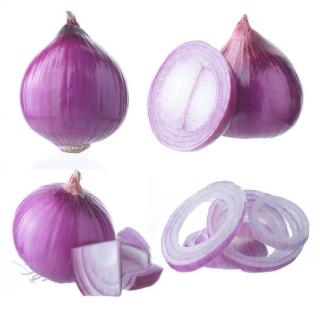Bawang Merah: (145, 12, 307, 155), (19, 8, 132, 156), (10, 169, 118, 287)
